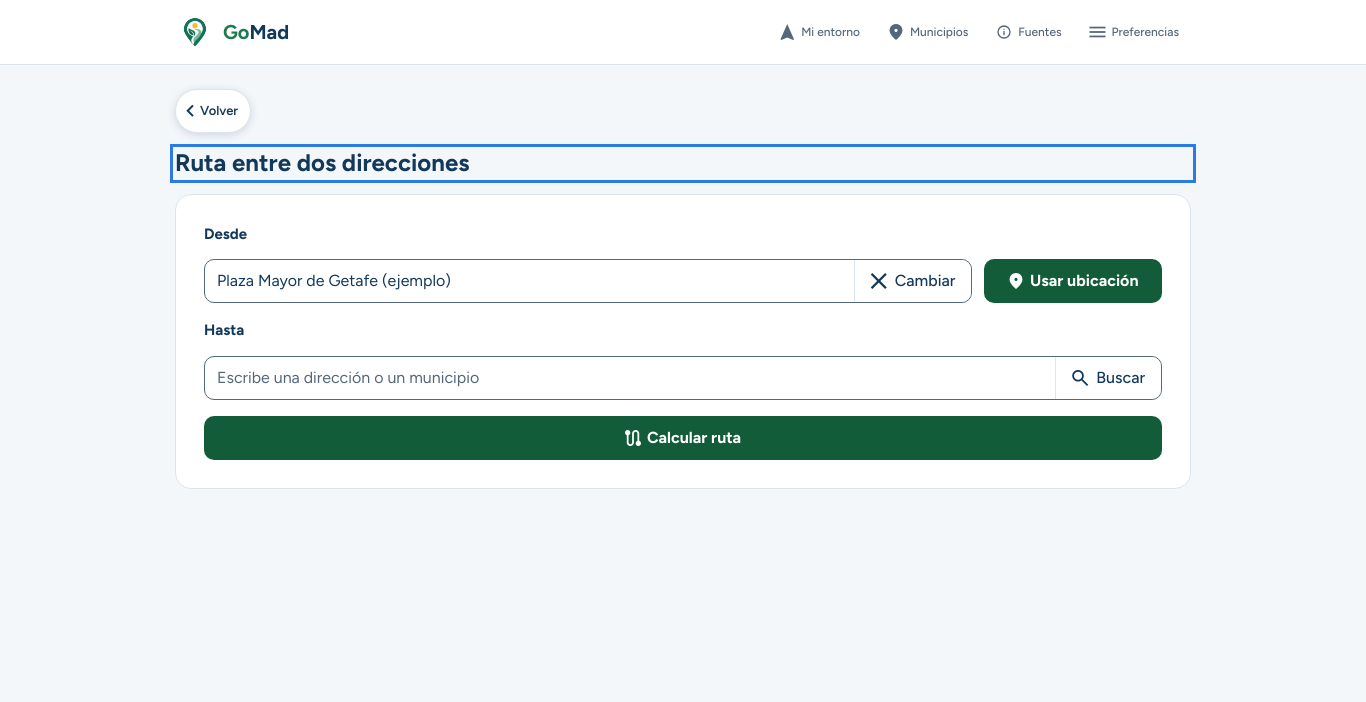
Test: Ruta entre dos direcciones › «Desde» empieza con la ubicacion de Inicio y cambiarla no toca la de Inicio
Expected: the field labelled "Desde" holds "Plaza Mayor de Getafe (ejemplo)", [205,260,854,302]
Expected: the field labelled "Hasta" is empty, [205,357,1055,399]
Click the button "Cambiar" at (913, 281), box [854,260,971,302]
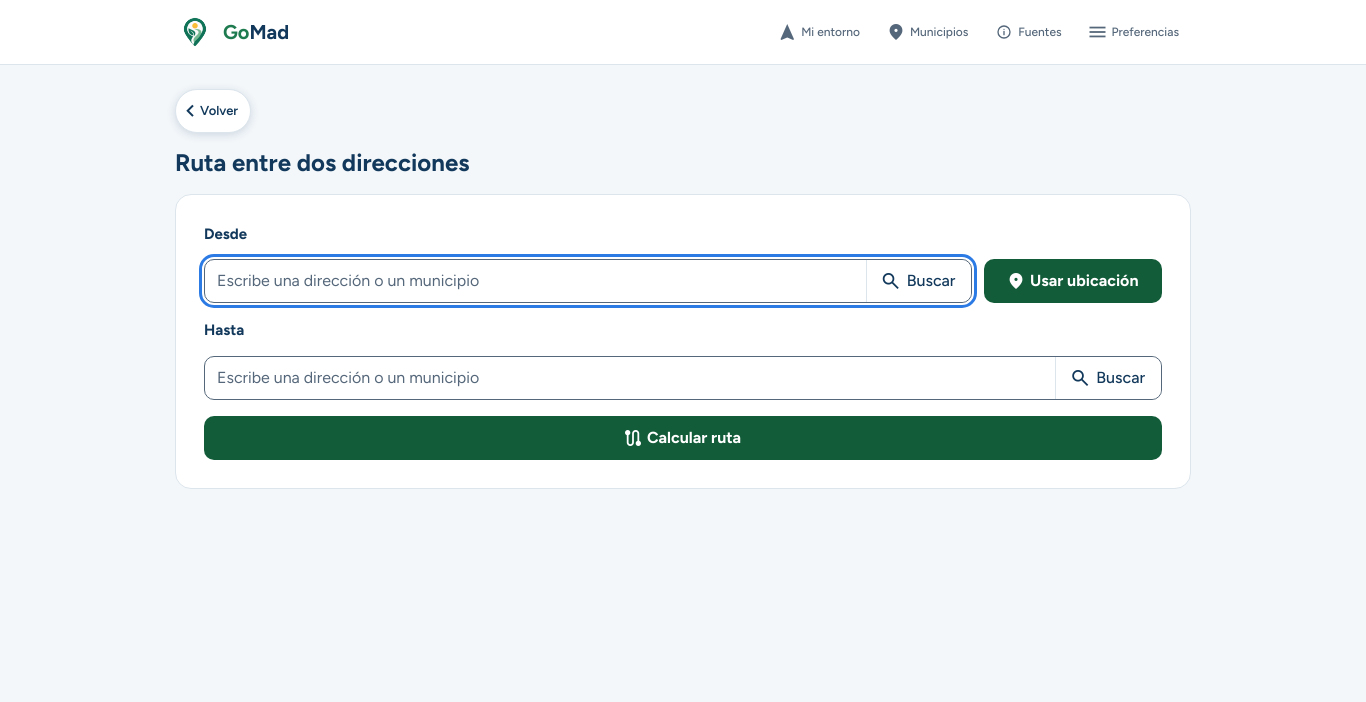
Expected: the field labelled "Desde" is empty, [205,260,866,302]
Click the link "Volver" at (213, 111), box [175,89,251,133]
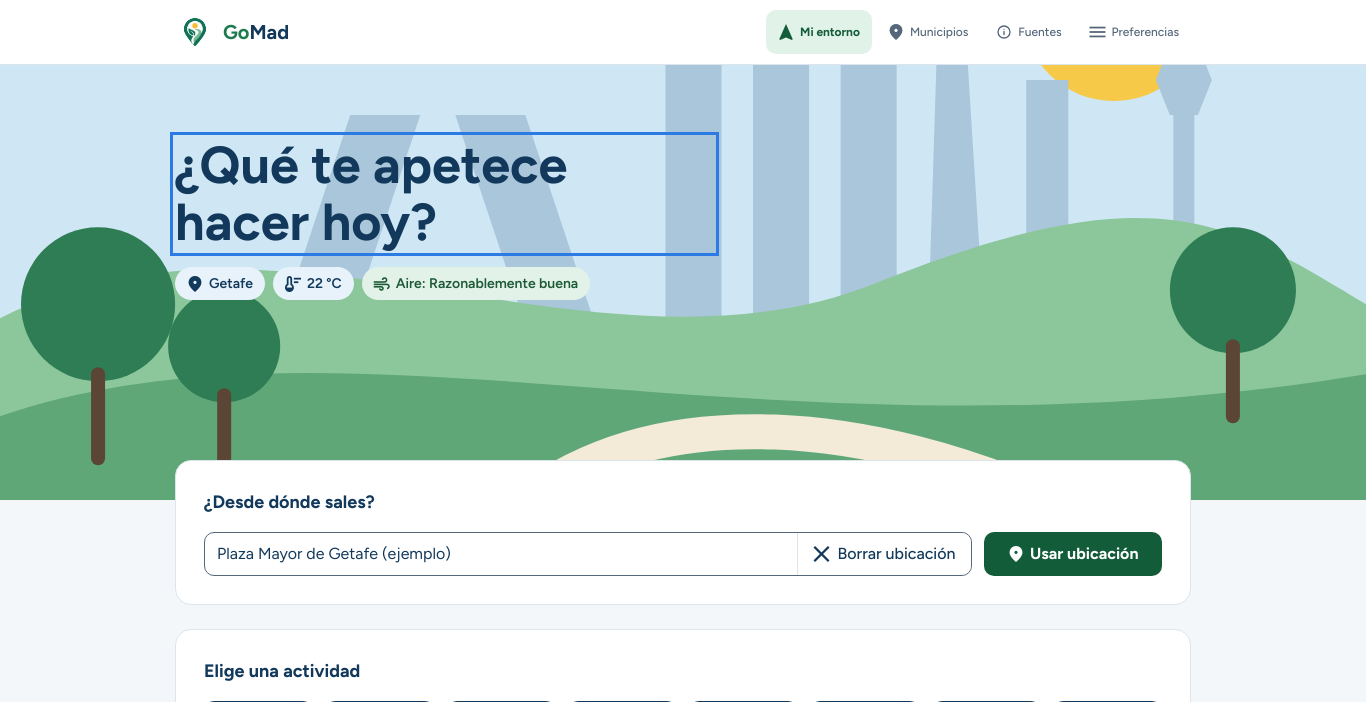
Expected: the heading "¿Qué te apetece hacer hoy?" is shown, [175,134,567,253]
Expected: the field named "Escribe una dirección o un municipio" holds "Plaza Mayor de Getafe (ejemplo)", [205,533,796,575]
